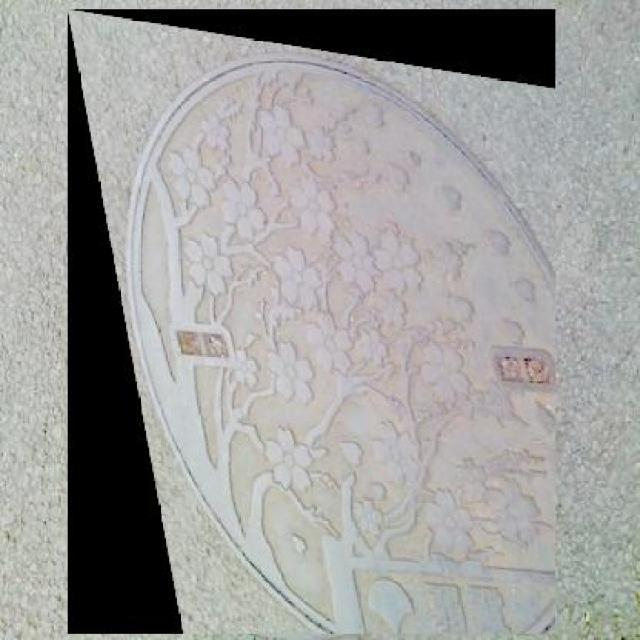Manhole: (70, 9, 558, 634)
